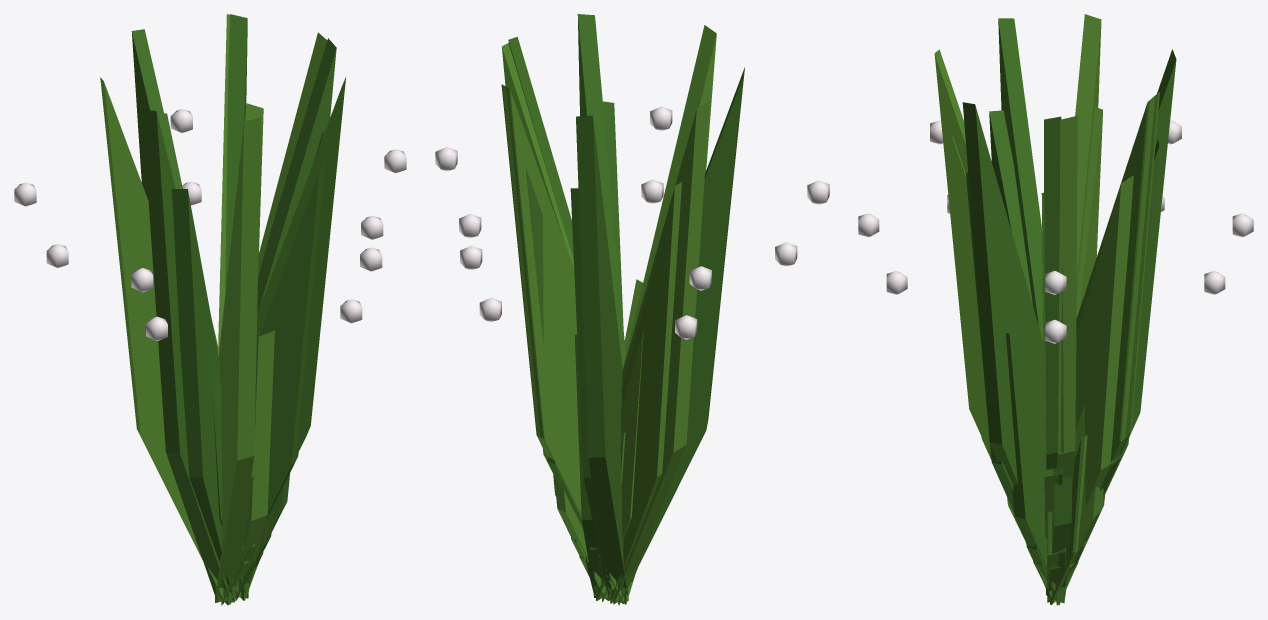
Rendered from Crop_Nut_Sesame.fbx.
3 views of the same model, side by side, from view 1: azimuth 30°, elevation 25°; view 2: azimuth 150°, elevation 25°; view 3: azimuth 270°, elevation 25° (orthographic).
Parts seen in each view (by area): view 1: Crop_Nut_Sesame__S4, Crop_Nut_Sesame__S3, Crop_Nut_Sesame__S2, Crop_Nut_Sesame__S5; view 2: Crop_Nut_Sesame__S4, Crop_Nut_Sesame__S3, Crop_Nut_Sesame__S2, Crop_Nut_Sesame__S5; view 3: Crop_Nut_Sesame__S4, Crop_Nut_Sesame__S3, Crop_Nut_Sesame__S2, Crop_Nut_Sesame__S5, Crop_Nut_Sesame__S1.
Boxes of the visible parts, <box> form: Crop_Nut_Sesame__S4: <box>14,14,406,605</box>; Crop_Nut_Sesame__S3: <box>46,103,383,604</box>; Crop_Nut_Sesame__S2: <box>212,330,289,600</box>; Crop_Nut_Sesame__S5: <box>235,518,271,600</box>; Crop_Nut_Sesame__S4: <box>435,14,829,605</box>; Crop_Nut_Sesame__S3: <box>459,101,797,604</box>; Crop_Nut_Sesame__S2: <box>553,279,643,601</box>; Crop_Nut_Sesame__S5: <box>571,432,625,601</box>; Crop_Nut_Sesame__S4: <box>858,14,1253,489</box>; Crop_Nut_Sesame__S3: <box>886,107,1225,595</box>; Crop_Nut_Sesame__S2: <box>1006,290,1105,605</box>; Crop_Nut_Sesame__S5: <box>1026,434,1087,605</box>; Crop_Nut_Sesame__S1: <box>1033,558,1079,605</box>.
Size of the model in its own units: 0.1691 by 0.2616 by 0.1768.
